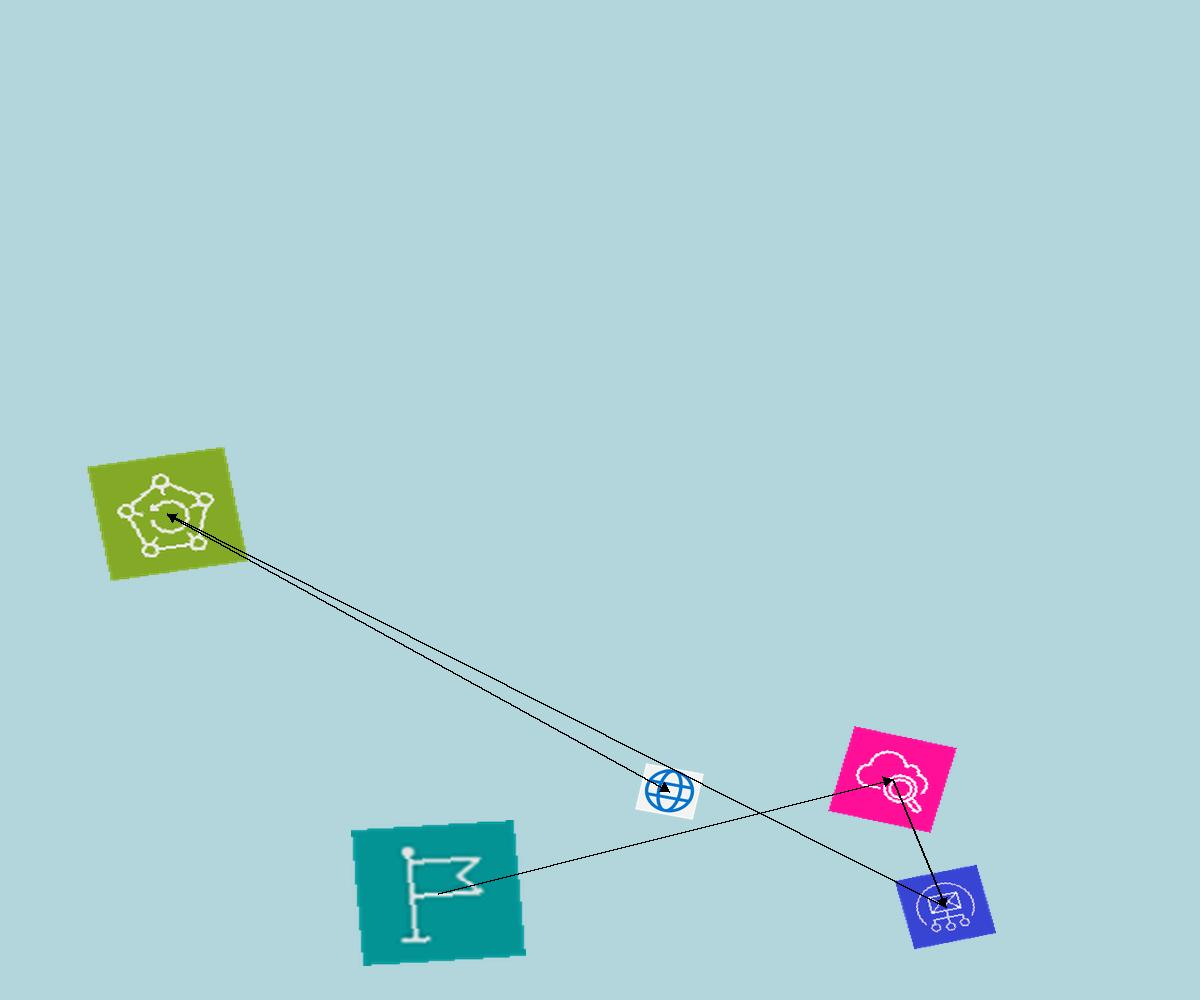AWS-Backup: (86, 446, 249, 582)
AWS-CloudWatch: (828, 726, 957, 833)
AWS-Region: (351, 820, 526, 966)
AWS-Simple-Email-Service: (894, 864, 997, 950)
Azure_http: (635, 763, 704, 820)
